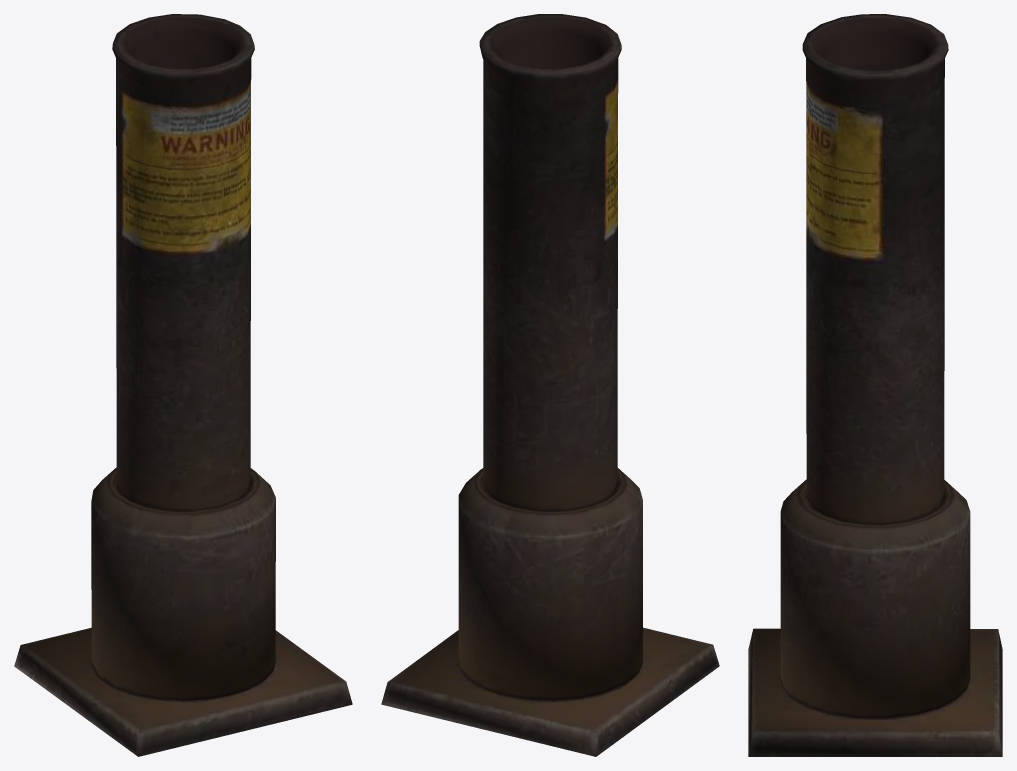
The model's file is mortarorange.glb.
The picture shows the model from 3 angles, left to right: view 1: azimuth 30°, elevation 25°; view 2: azimuth 150°, elevation 25°; view 3: azimuth 270°, elevation 25°; orthographic projection. The views are drawn at different scales.
Parts seen in each view (by area): view 1: Mortar_LOD0; view 2: Mortar_LOD0; view 3: Mortar_LOD0.
Boxes of the visible parts, bbox=[...] form: Mortar_LOD0: bbox=[14, 14, 352, 756]; Mortar_LOD0: bbox=[381, 14, 719, 756]; Mortar_LOD0: bbox=[748, 14, 1002, 756].
Size of the model in its own units: 0.2291 by 0.6542 by 0.2287.
1 material, 1 textured.
